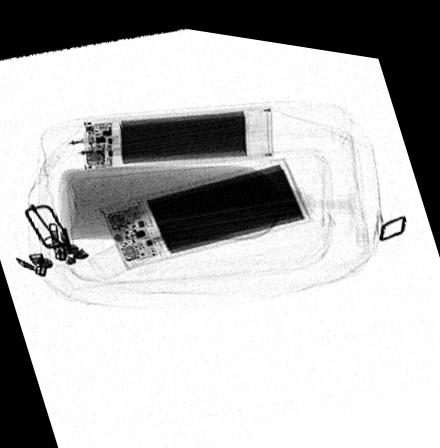Powerbank: (100, 149, 313, 267), (80, 97, 275, 171)
